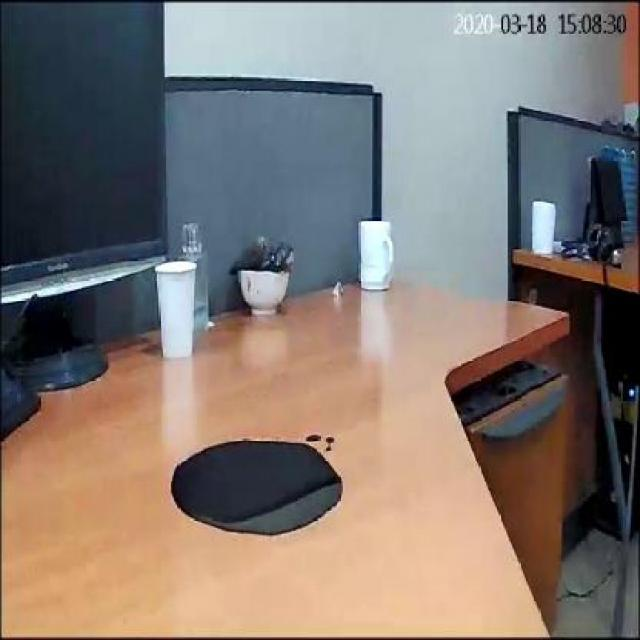spill: (172, 433, 340, 535)
